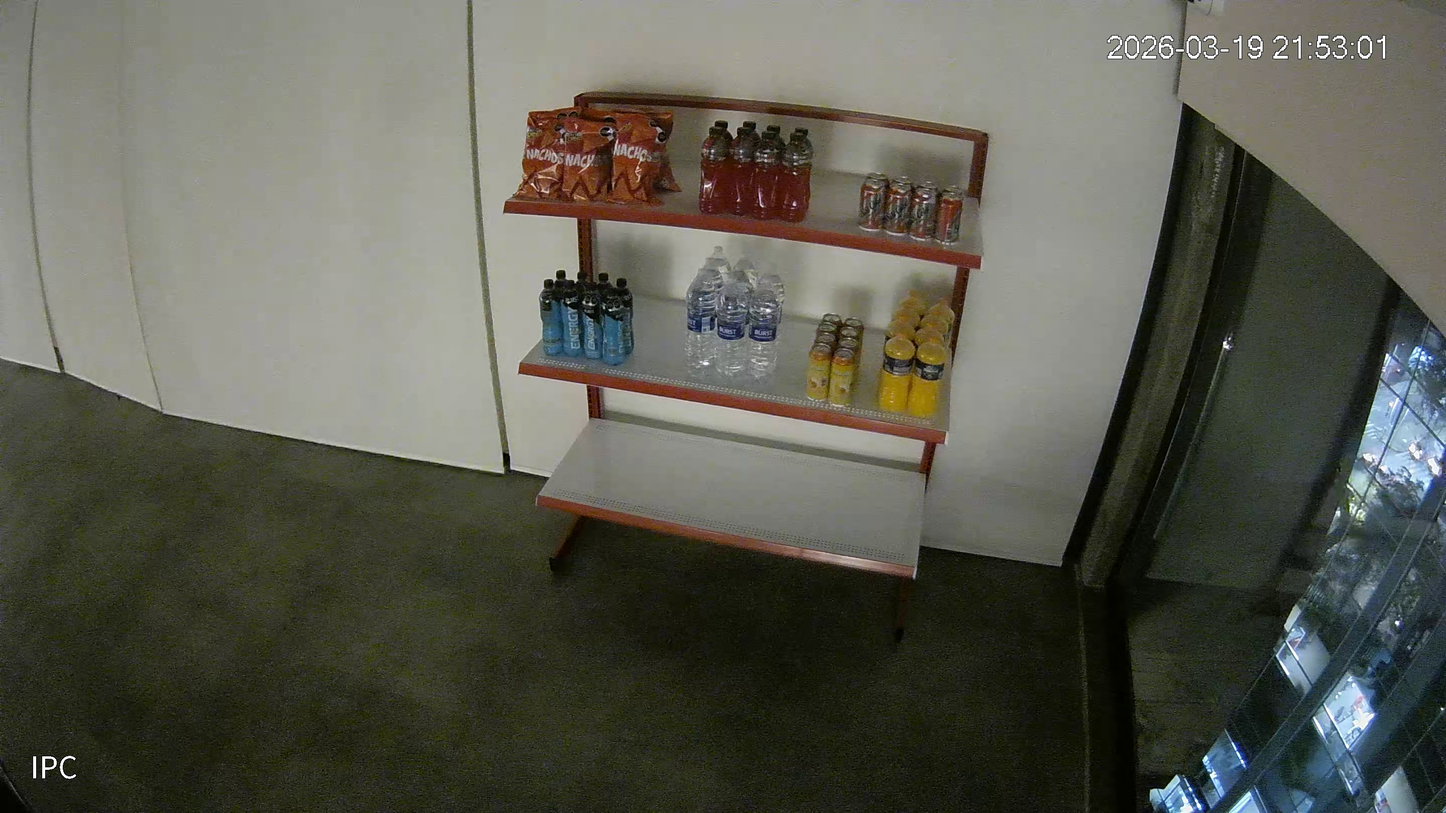agua_burst: (744, 277, 780, 378), (683, 266, 714, 376), (708, 243, 731, 283)
burst_energetica_roja: (794, 125, 811, 213), (766, 125, 783, 146), (716, 121, 733, 139)
burst_energy: (602, 288, 628, 364), (616, 277, 633, 353), (595, 272, 613, 288)
nachos_naturasol: (620, 109, 683, 191), (514, 112, 563, 201), (573, 108, 616, 121)
nebraska_mango: (825, 347, 856, 410), (815, 332, 835, 344), (846, 317, 862, 327)
sisi_cola: (858, 177, 886, 232), (933, 192, 963, 243), (916, 176, 941, 190)
sun_paradise_naranja: (913, 316, 947, 350), (898, 284, 929, 316), (885, 312, 912, 339)
